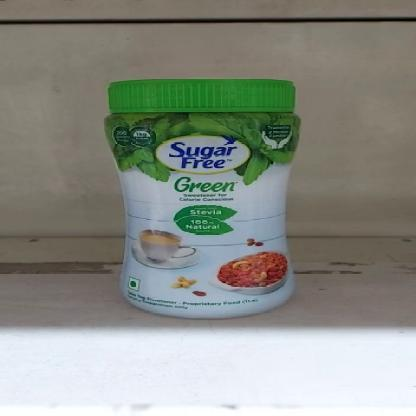SUGAR FREE_GRN_ POWDER_CONC_100G: (102, 75, 302, 318)
